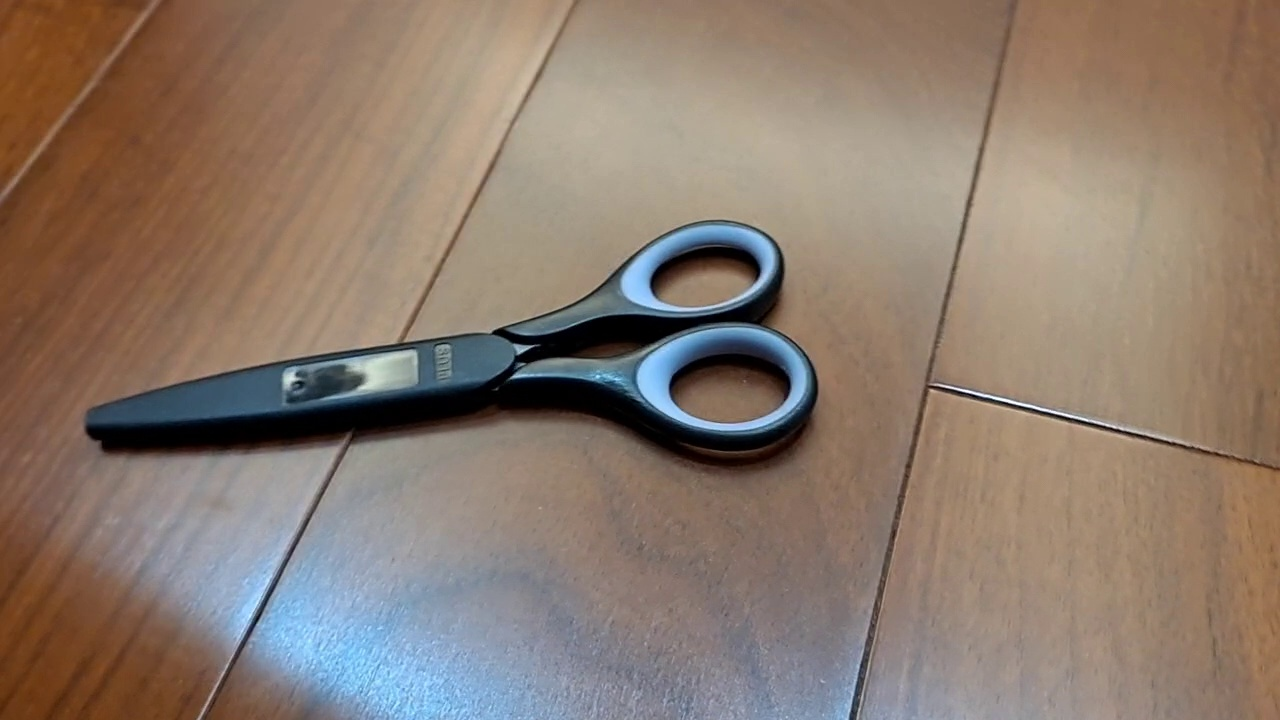scissors: (83, 217, 820, 457)
